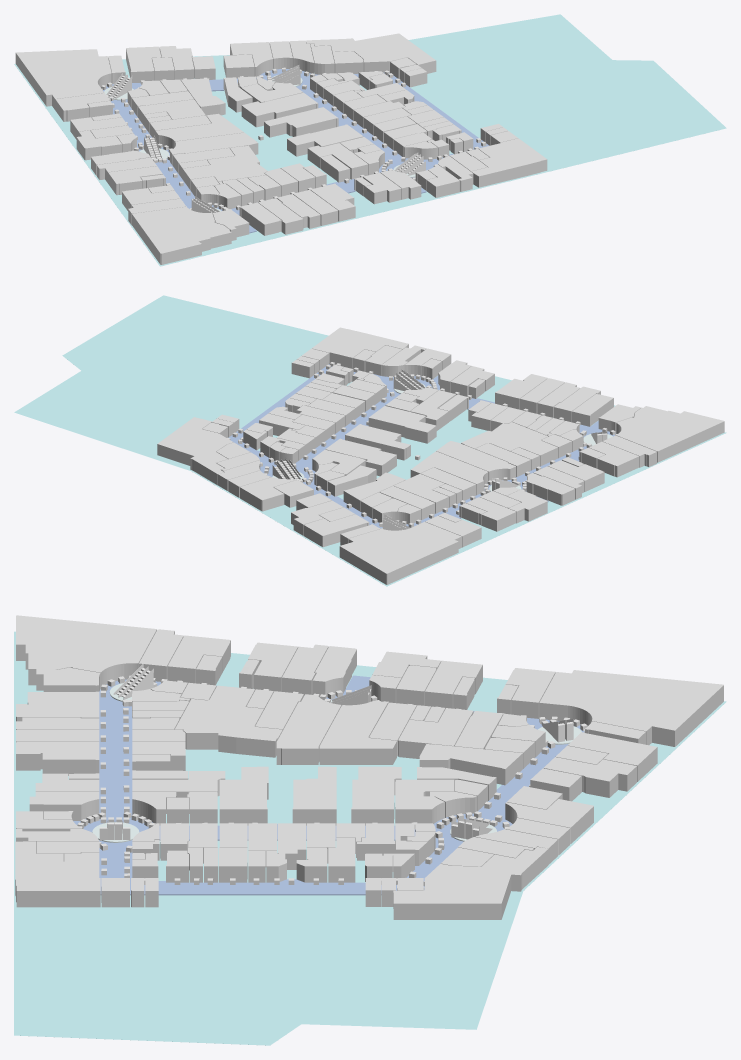
Rendered from PTA00.gltf.
3 views of the same model, one above another, from view 1: azimuth 30°, elevation 25°; view 2: azimuth 150°, elevation 25°; view 3: azimuth 270°, elevation 25° (orthographic). The views are drawn at different scales.
Parts seen in each view (by area): view 1: Floor_00, Shop_00_T107-108, Shop_00_T149, Walkable_00, Shop_00_T123, Shop_00_T132, Shop_00_T239, Shop_00_T218, Shop_00_T217, Shop_00_T201, Shop_00_T243, Shop_00_T219-T220 (+50 smaller); view 2: Floor_00, Shop_00_T107-108, Shop_00_T149, Walkable_00, Shop_00_T123, Shop_00_T239, Shop_00_T132, Shop_00_T219-T220, Shop_00_T243, Shop_00_T201, Shop_00_T218, Shop_00_T110 (+40 smaller); view 3: Floor_00, Walkable_00, Shop_00_T107-108, Shop_00_T123, Shop_00_T149, Shop_00_T239, Shop_00_T132, Shop_00_T201, Shop_00_T243, Shop_00_T211, Shop_00_T124-T143, Shop_00_T219-T220 (+61 smaller).
Part boxes in pixels (x1,y1,x2,y2): Floor_00: (14, 14, 726, 266); Shop_00_T107-108: (15, 49, 111, 109); Shop_00_T149: (132, 206, 231, 264); Walkable_00: (103, 69, 489, 233); Shop_00_T123: (306, 33, 436, 73); Shop_00_T132: (471, 138, 547, 187); Shop_00_T239: (182, 145, 267, 189); Shop_00_T218: (264, 107, 338, 137); Shop_00_T217: (241, 92, 318, 127); Shop_00_T201: (155, 113, 243, 148); Shop_00_T243: (170, 132, 258, 165); Shop_00_T219-T220: (287, 124, 363, 156); Floor_00: (14, 295, 726, 586); Shop_00_T107-108: (339, 521, 461, 584); Shop_00_T149: (616, 406, 724, 462); Walkable_00: (228, 364, 615, 528); Shop_00_T123: (157, 417, 233, 485); Shop_00_T239: (461, 422, 558, 466); Shop_00_T132: (312, 327, 408, 368); Shop_00_T219-T220: (368, 406, 436, 443); Shop_00_T243: (436, 441, 516, 480); Shop_00_T201: (410, 451, 488, 495); Shop_00_T218: (345, 424, 410, 460); Shop_00_T110: (303, 514, 369, 547); Floor_00: (14, 631, 726, 1045); Walkable_00: (73, 675, 584, 895); Shop_00_T107-108: (539, 670, 723, 746); Shop_00_T123: (393, 847, 548, 919); Shop_00_T149: (16, 615, 156, 688); Shop_00_T239: (175, 685, 282, 757); Shop_00_T132: (15, 841, 100, 907); Shop_00_T201: (319, 701, 396, 764); Shop_00_T243: (276, 694, 341, 764); Shop_00_T211: (419, 744, 522, 785); Shop_00_T124-T143: (16, 742, 99, 775); Shop_00_T219-T220: (219, 766, 268, 825).
Bounding box in the file's own units: 26691 × 854 × 19425.
